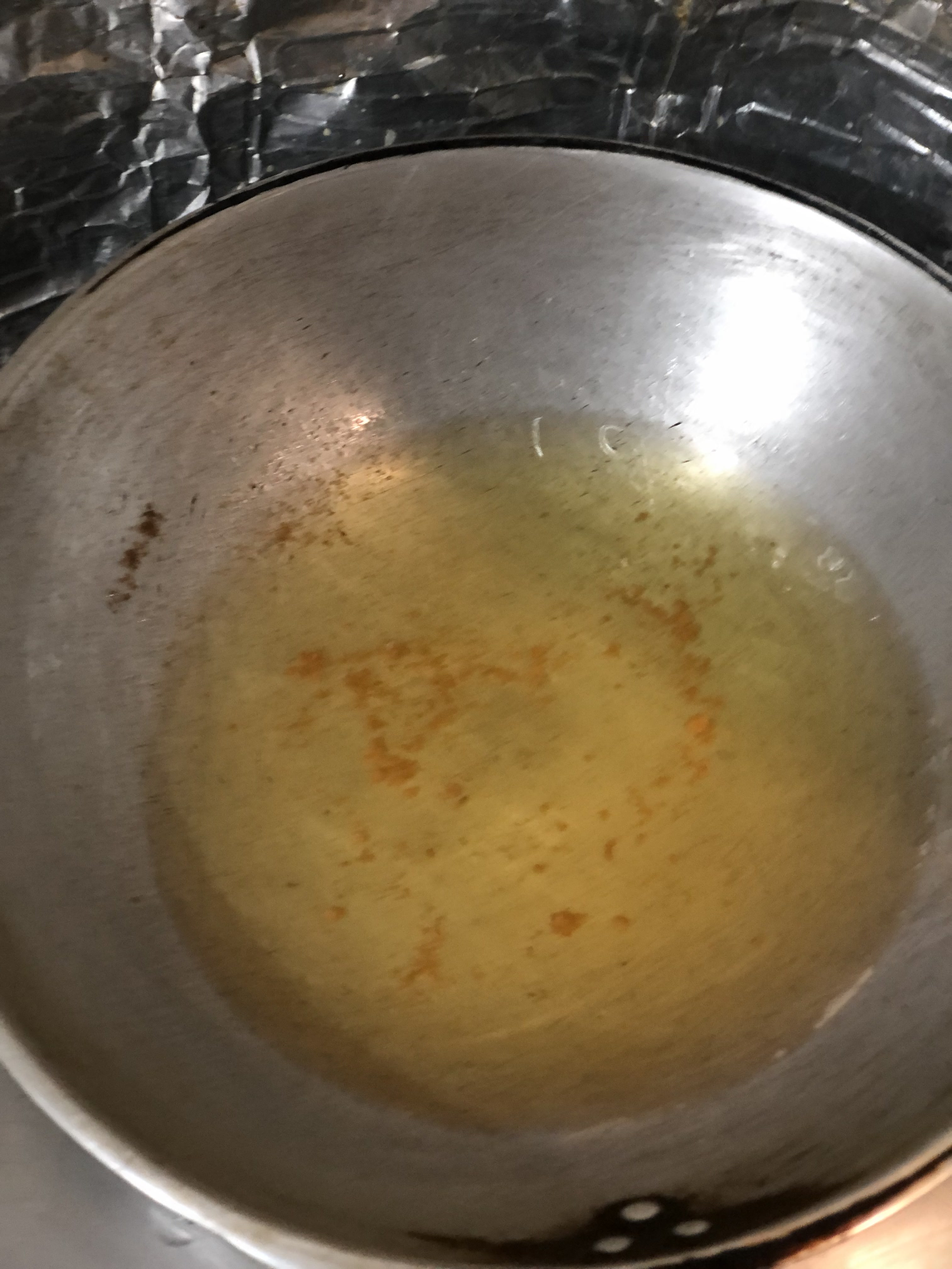reusable: (148, 412, 935, 1136)
